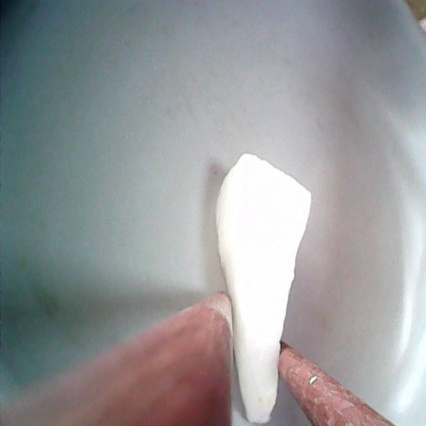white_chinese-yam: (203, 147, 323, 426)
